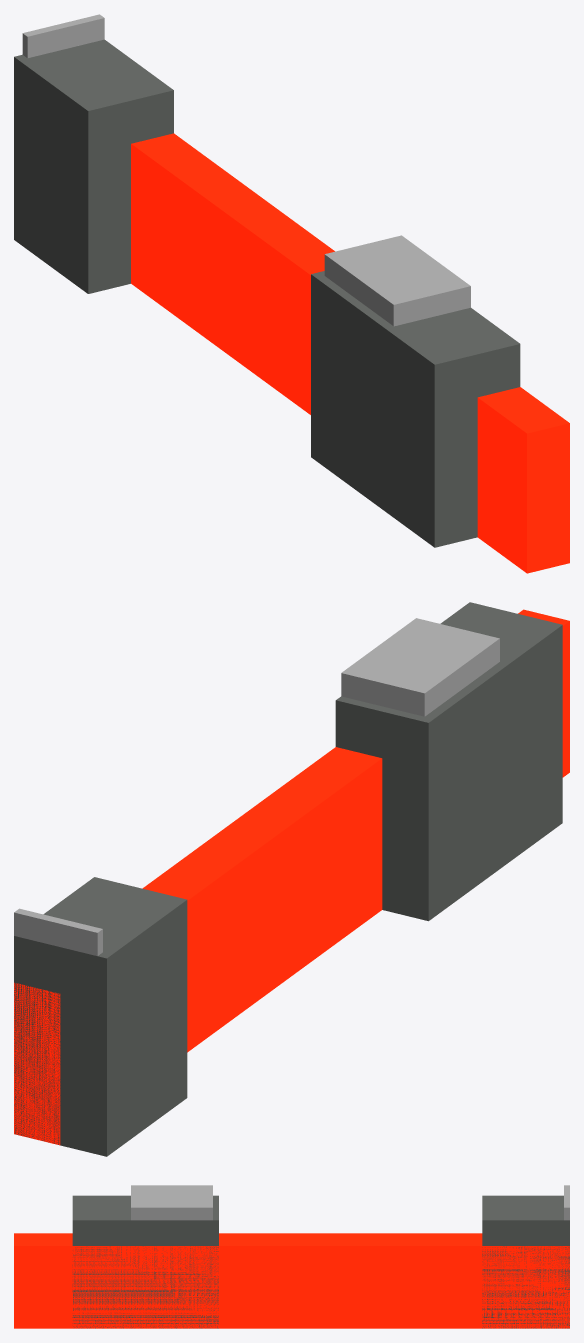
File: newsha-39-f4.glb
The picture shows the model from 3 angles, top to bottom: view 1: azimuth 30°, elevation 25°; view 2: azimuth 150°, elevation 25°; view 3: azimuth 270°, elevation 25°; orthographic projection. The views are drawn at different scales.
Visible parts, largest first — view 1: newsha-39-f4; view 2: newsha-39-f4; view 3: newsha-39-f4.
Boxes of the visible parts, x1,y1,x2,y2 form: newsha-39-f4: (14, 14, 569, 573); newsha-39-f4: (14, 602, 569, 1156); newsha-39-f4: (14, 1185, 569, 1328).
Bounding box in the file's own units: 0.1667 × 0.38 × 1.58.
